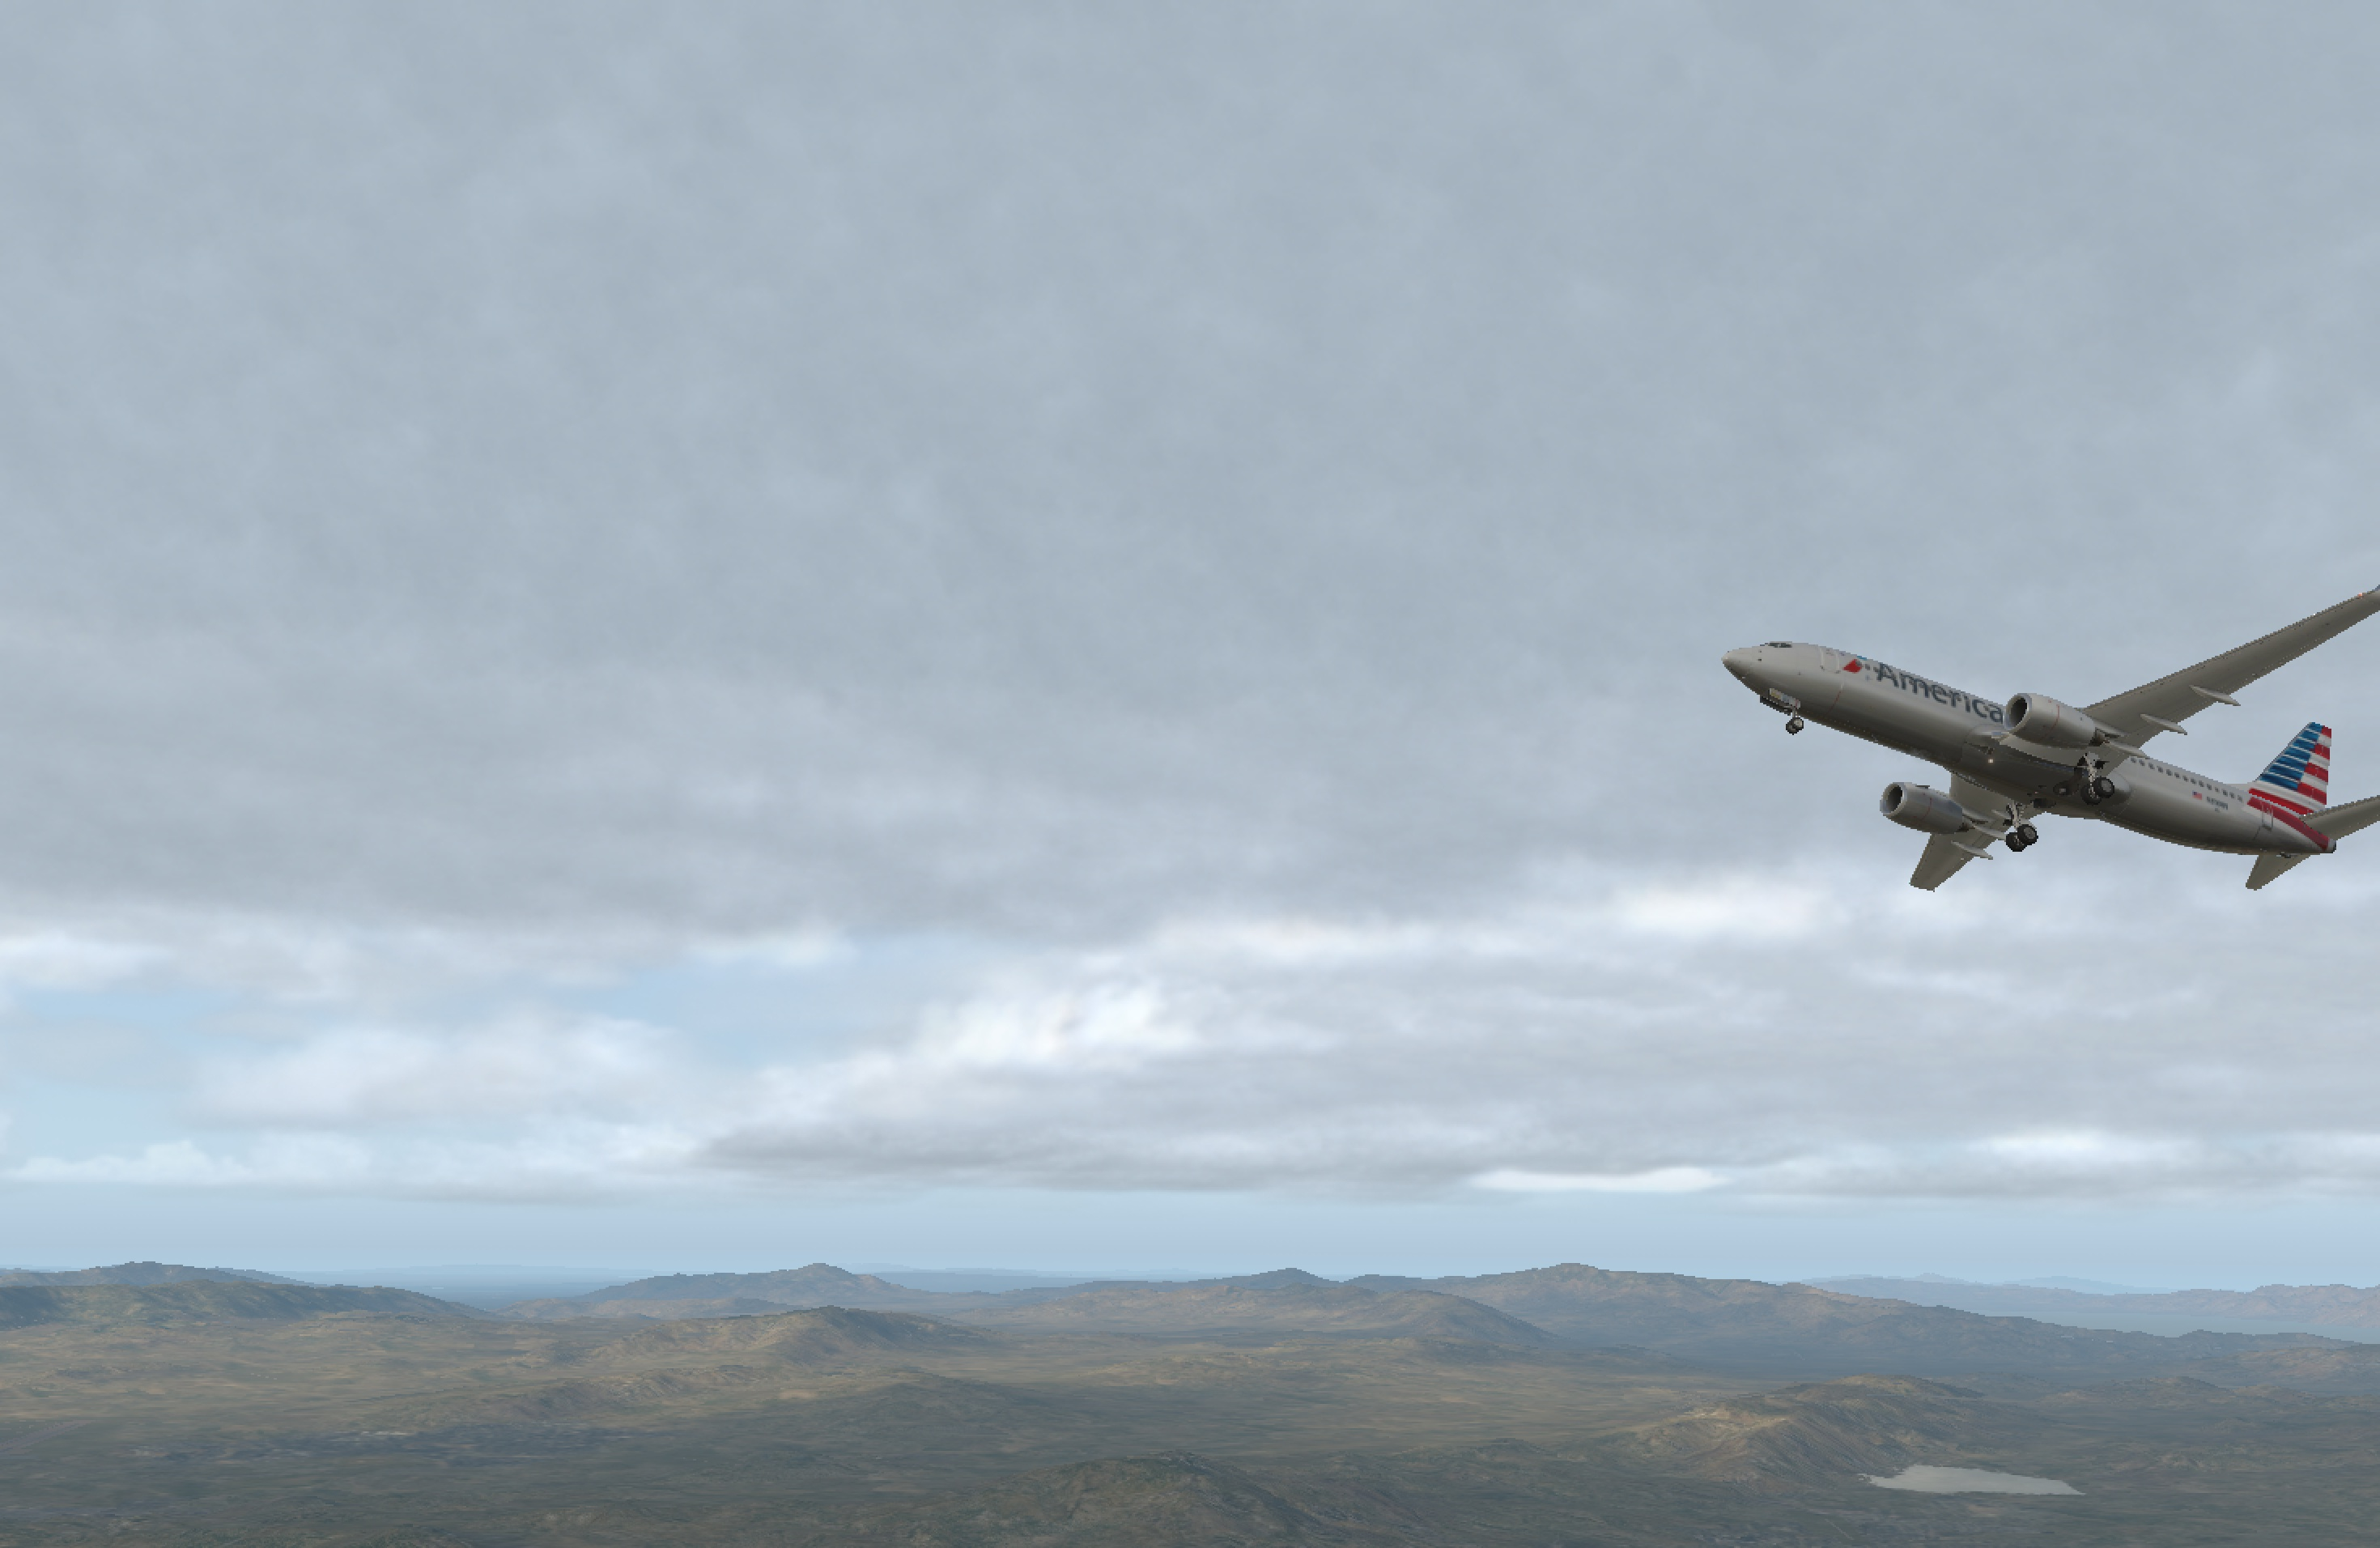aircraft: (1679, 633, 2380, 899)
